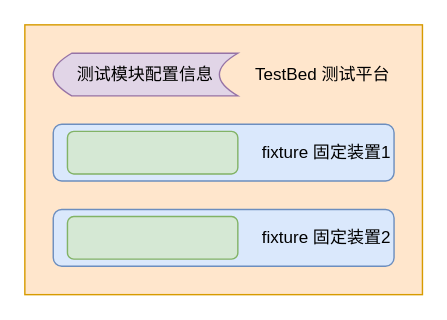
Image size: 447x320. Some labels were removed from this diagram. The centre of each missing label's shape, as x and y in pixels:
待测组件1: [152,152]
待测组件2: [152,237]
